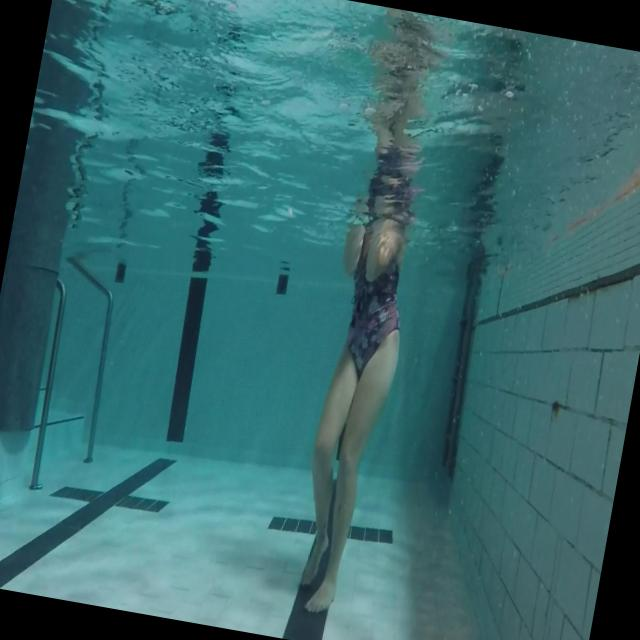human: (270, 5, 458, 620)
